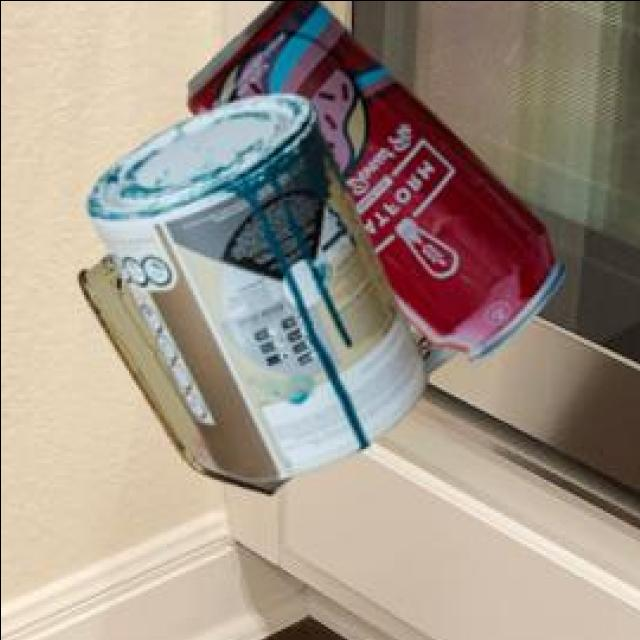logam: (191, 0, 568, 357), (89, 89, 430, 475), (82, 250, 463, 489)
